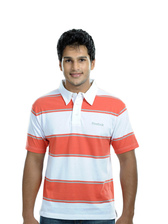clothoes: (26, 76, 143, 222)
